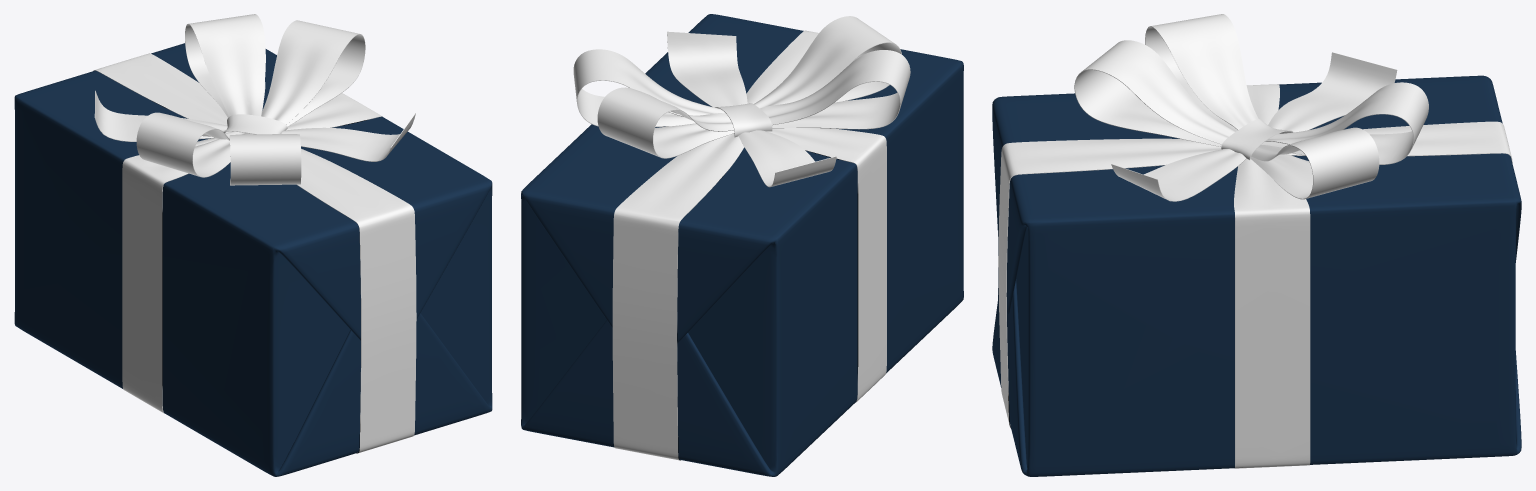
File: present_01.gltf
The picture shows the model from 3 angles, left to right: view 1: azimuth 30°, elevation 25°; view 2: azimuth 150°, elevation 25°; view 3: azimuth 270°, elevation 25°; orthographic projection. The views are drawn at different scales.
Parts seen in each view (by area): view 1: present_01; view 2: present_01; view 3: present_01.
Boxes of the visible parts, left/top/right/bottom form: present_01: left=14, top=14, right=492, bottom=476; present_01: left=521, top=14, right=963, bottom=476; present_01: left=992, top=14, right=1521, bottom=476.
Bounding box in the file's own units: 0.2692 × 0.2757 × 0.4062.
1 material, 1 textured.
